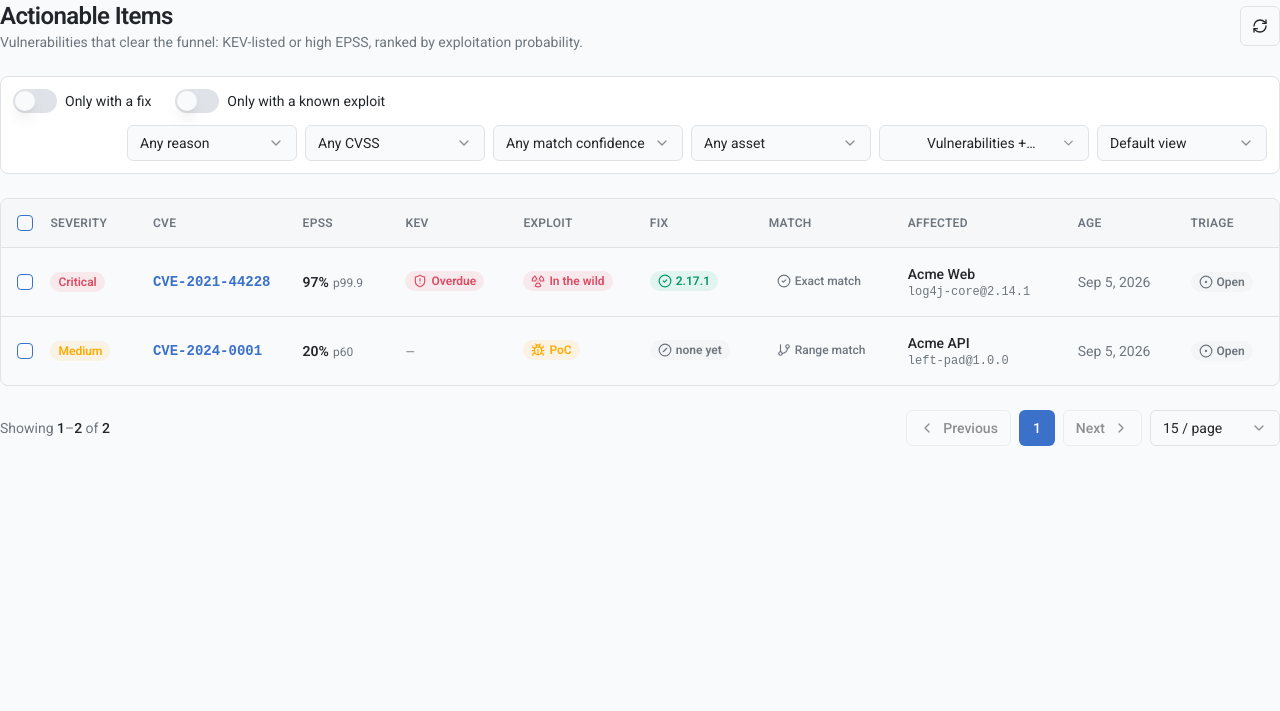
it: ActionableView › opens the detail panel when a row is clicked
Click the text "CVE-2021-44228": (212, 282) [153, 274, 270, 290]
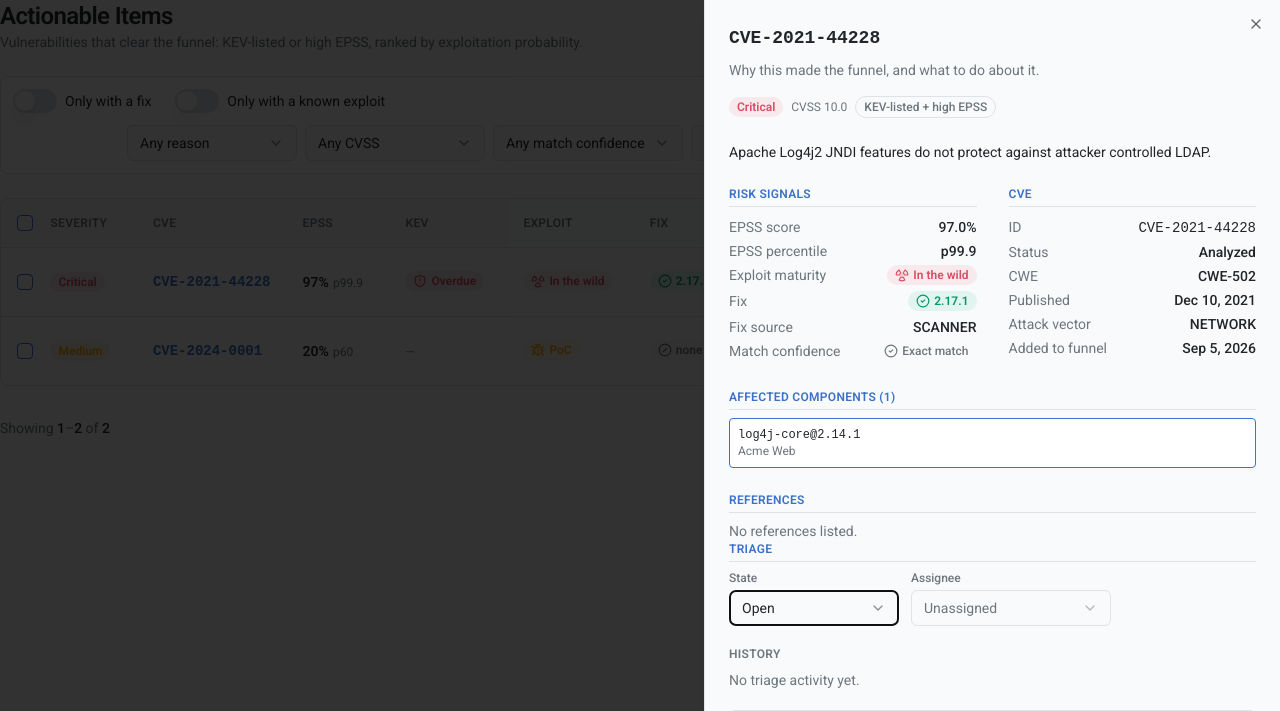
Result: the text "Why this made the funnel, and what to do about it." is shown at [729, 62, 1039, 78]
Result: the heading "Affected components (1)" is shown at [729, 389, 1256, 410]
